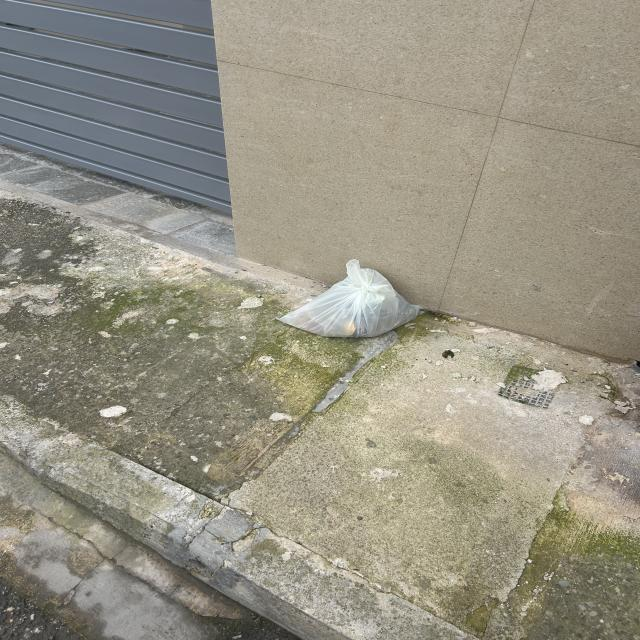white_bag: (276, 255, 426, 342)
